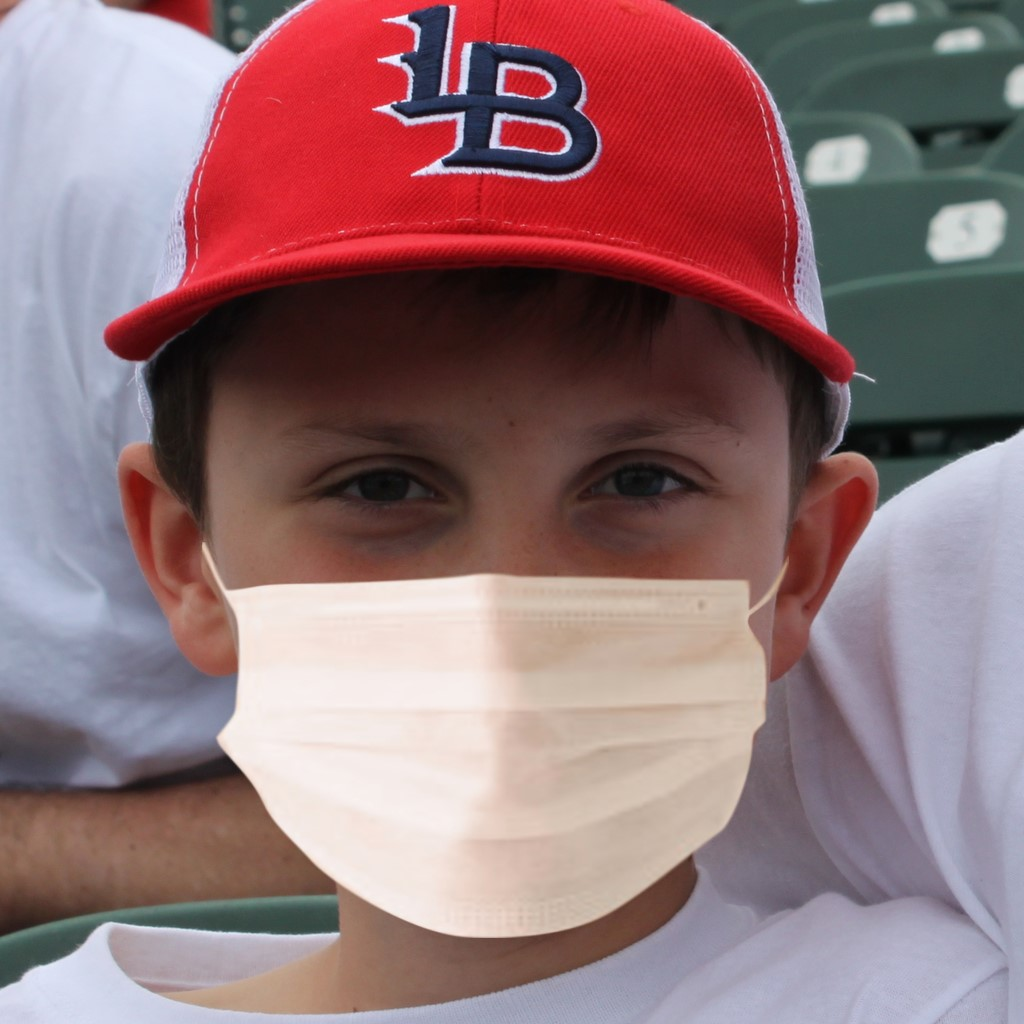con_mascara: (189, 254, 806, 929)
